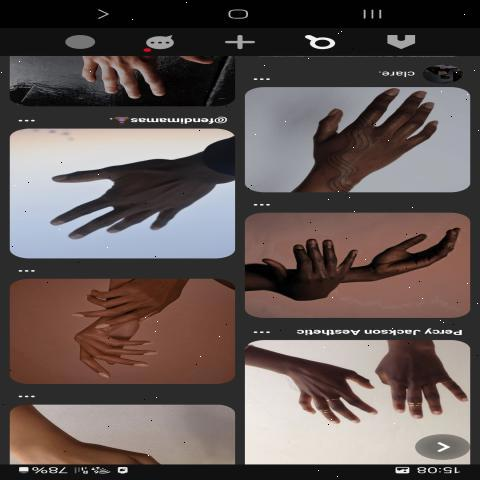Hands: (32, 138, 218, 262), (291, 87, 450, 191), (266, 351, 386, 443), (361, 342, 472, 439), (37, 316, 169, 387), (362, 224, 464, 299), (268, 228, 356, 302), (59, 283, 180, 332)
